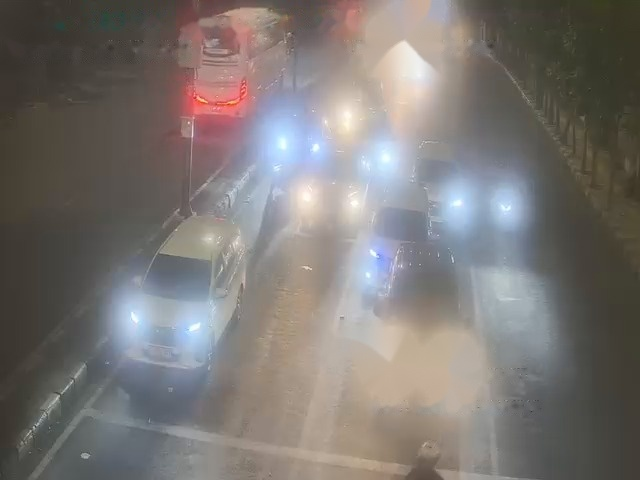Bis: (189, 6, 292, 121)
Mobil: (129, 210, 234, 372), (383, 242, 464, 381), (368, 179, 423, 286), (302, 141, 365, 229), (413, 131, 463, 216), (273, 97, 320, 162)
Motor: (493, 188, 519, 228)
